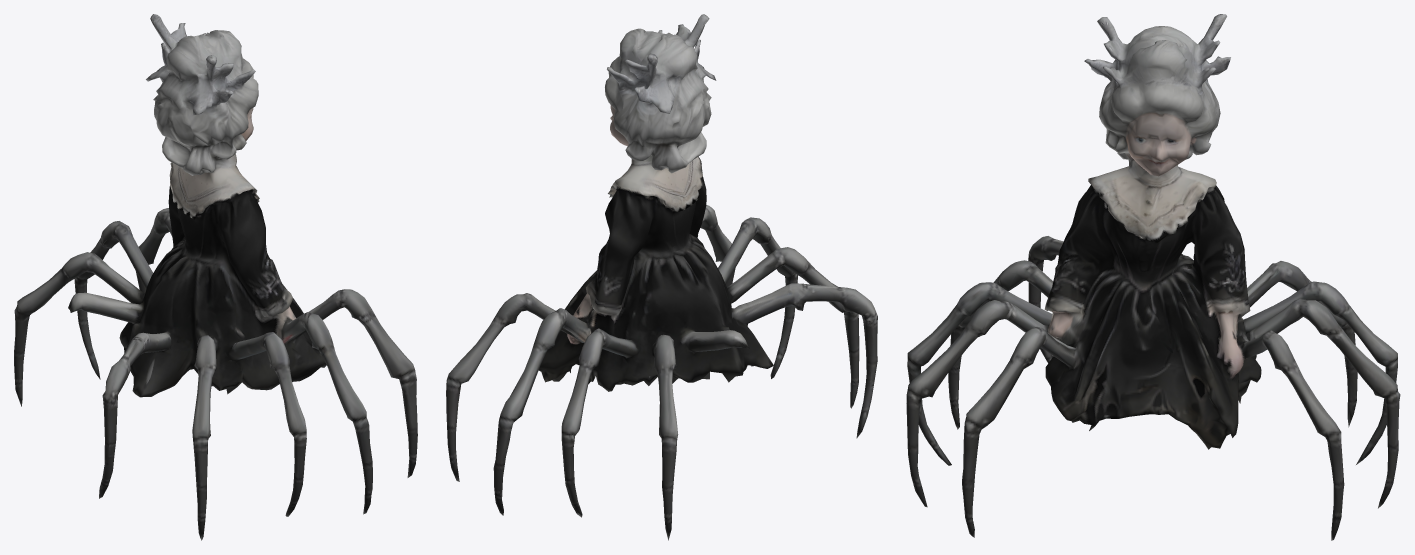
The model's file is Widow_Weaver.glb.
The picture shows the model from 3 angles, left to right: view 1: azimuth 30°, elevation 25°; view 2: azimuth 150°, elevation 25°; view 3: azimuth 270°, elevation 25°; orthographic projection. The views are drawn at different scales.
Visible parts, largest first — view 1: geometry_0; view 2: geometry_0; view 3: geometry_0.
Part boxes in pixels (x1,y1,x2,y2): geometry_0: [14, 14, 417, 540]; geometry_0: [446, 14, 877, 540]; geometry_0: [906, 14, 1400, 540].
Bounding box in the file's own units: 0.8528 × 1.2 × 1.18.
1 material, 1 textured.
